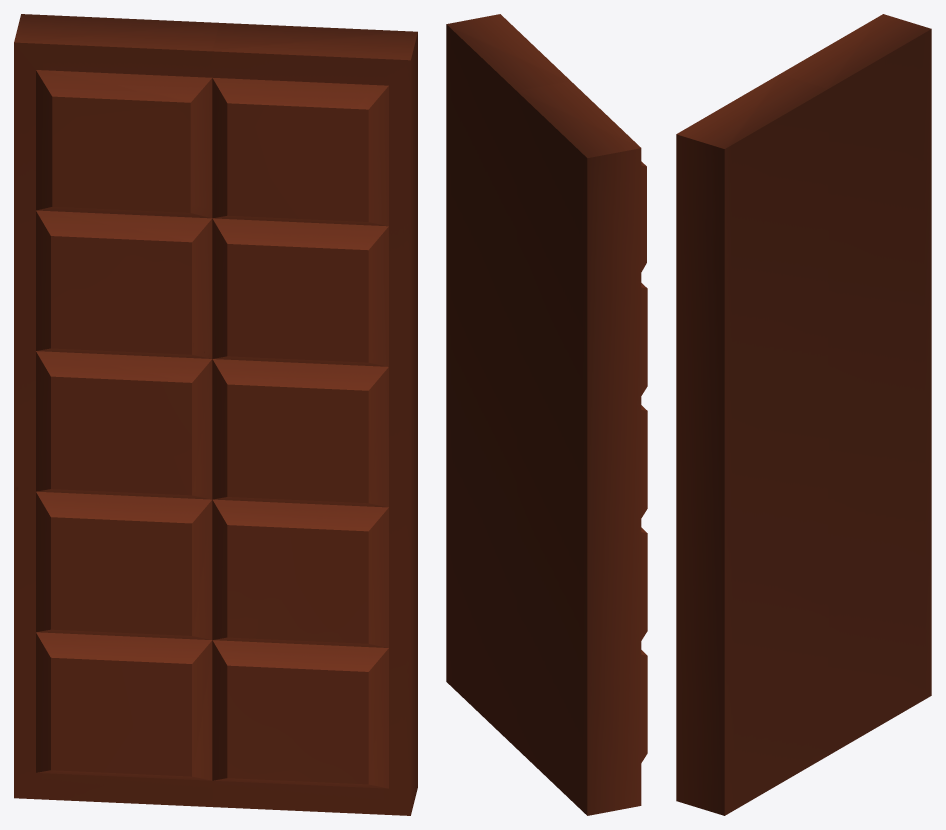
The model's file is chocolate.fbx.
3 renders of one model, left to right at view 1: azimuth 30°, elevation 25°; view 2: azimuth 150°, elevation 25°; view 3: azimuth 270°, elevation 25°, orthographic. The views are drawn at different scales.
Parts seen in each view (by area): view 1: Cube; view 2: Cube; view 3: Cube.
Boxes of the visible parts, <box> form: Cube: <box>14,14,417,815</box>; Cube: <box>446,14,647,815</box>; Cube: <box>676,14,931,815</box>.
Size of the model in its own units: 0.7782 by 1.79 by 0.6216.
